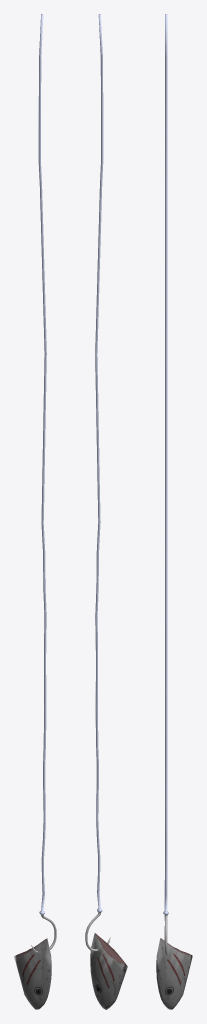
The model's file is fishingLine00.fbx.
3 views of the same model, side by side, from view 1: azimuth 30°, elevation 25°; view 2: azimuth 210°, elevation 25°; view 3: azimuth 270°, elevation 25° (orthographic).
Visible parts, largest first — view 1: fishingLine_final; view 2: fishingLine_final; view 3: fishingLine_final.
Boxes of the visible parts, box(x1,y1,x2,y2) form: fishingLine_final: box(14, 14, 56, 1009); fishingLine_final: box(85, 14, 127, 1009); fishingLine_final: box(156, 14, 192, 1009).
Bounding box in the file's own units: 62.15 × 2037 × 67.76.
3 materials, 1 textured.
